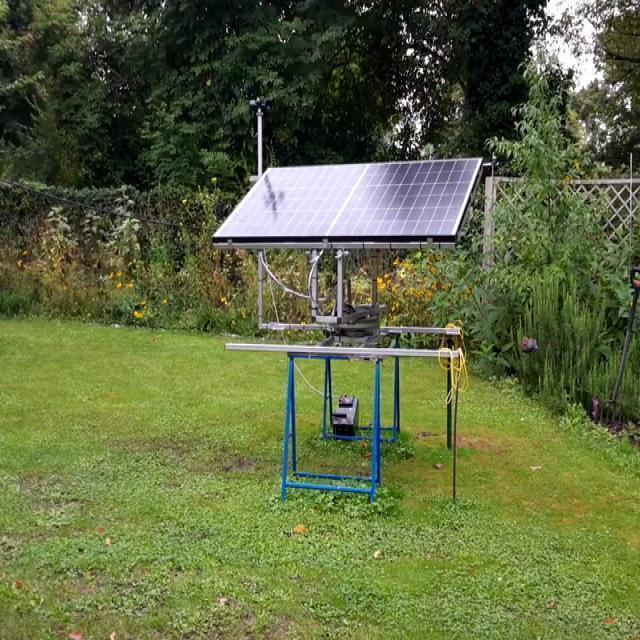Normal Solar Panel: (216, 158, 483, 239)
